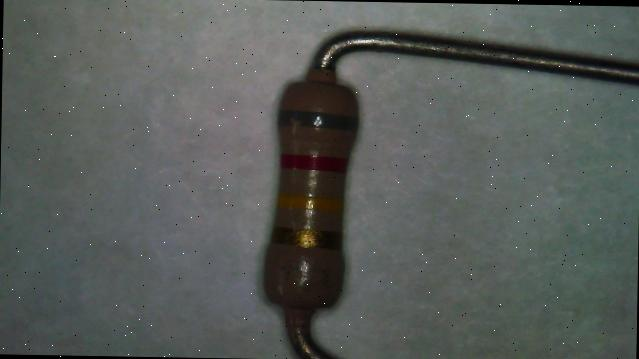gold: (272, 226, 339, 247)
grey: (276, 110, 358, 128)
red: (279, 153, 346, 171)
resistor: (251, 59, 378, 330)
yellow: (277, 192, 341, 210)
